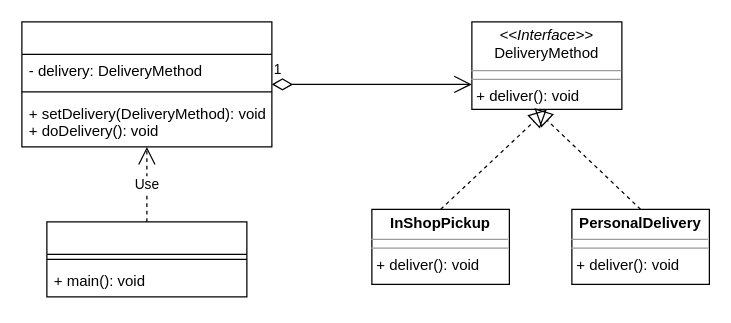
Some shapes in this 731 by 323 pixel diagram are drawn without their labels. The shapes that lost their labels are listed below. From the top down, each one's box as (x1, y1, x2, y2) in pixels, then its label:
(21, 21, 272, 147): Order
(46, 221, 247, 297): Client
